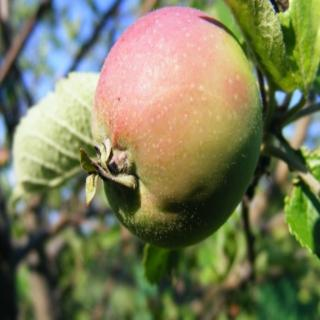Peach: (88, 7, 263, 245)
